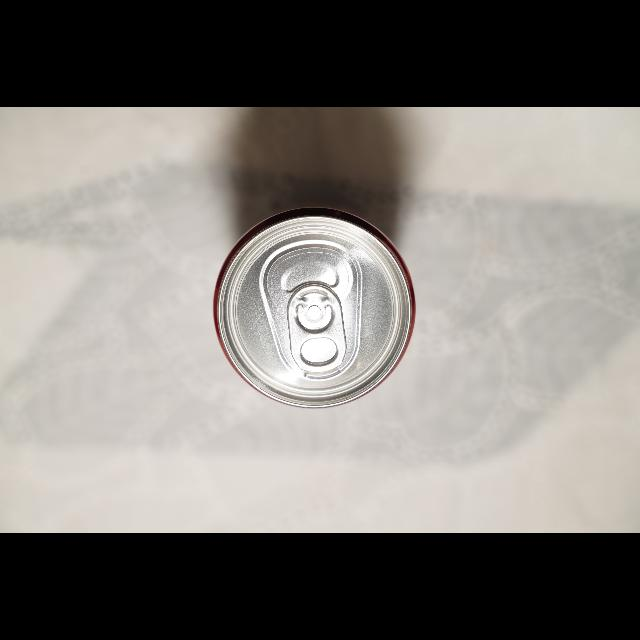coca_cola: (212, 206, 416, 410)
